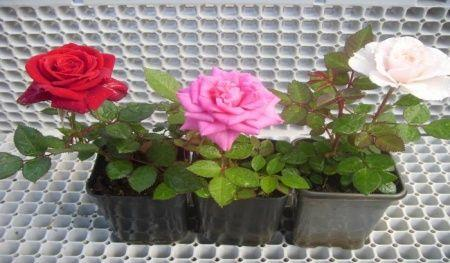Rose: (344, 27, 449, 108), (181, 65, 282, 149), (17, 42, 129, 114)
